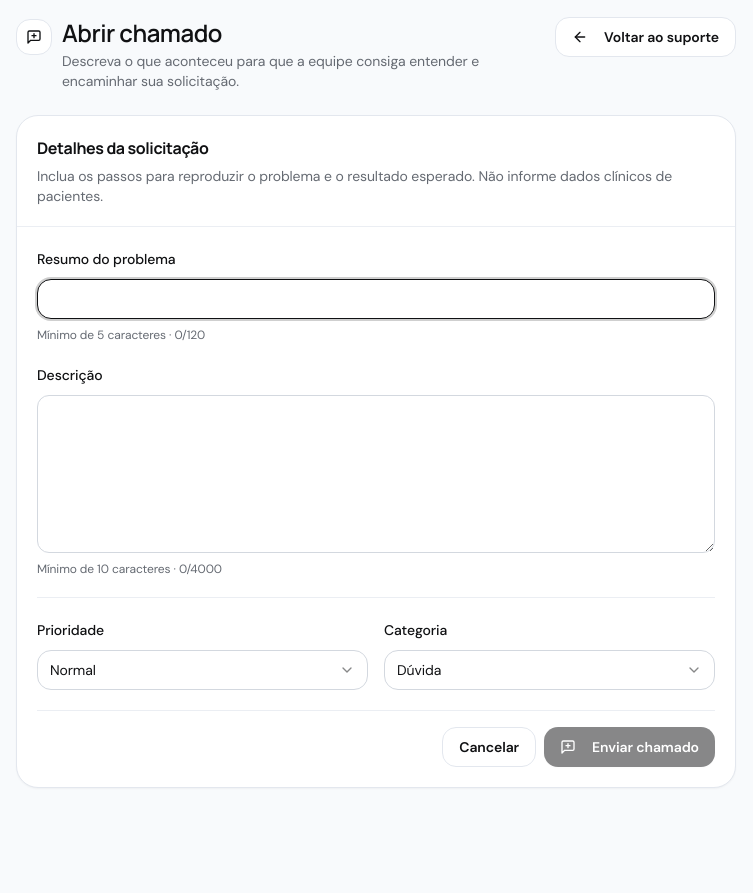
NovoChamadoSuportePage › mantém o rascunho quando o backend recusa a abertura
The width and height of the screenshot is (753, 893).
Type "Erro ao salvar exame" into the field labelled "Resumo do problema" at (376, 299), box [37,279,715,319]
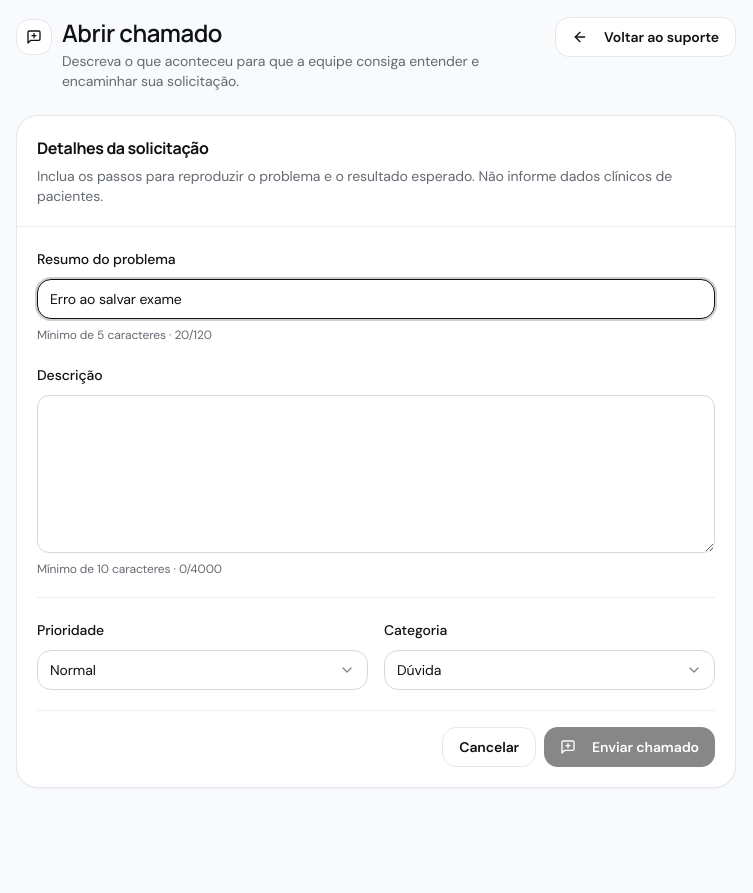
Type "A página informa que não foi possível concluir o salvamento do exame." into the text box labelled "Descrição" at (376, 474), box [37,395,715,553]
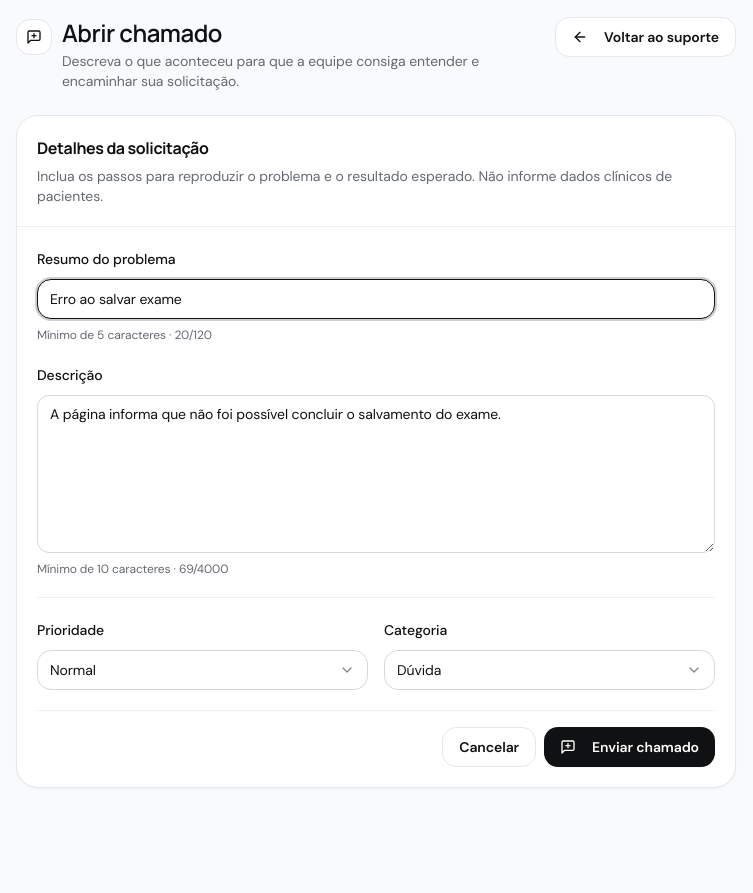
Click the button "Enviar chamado" at (630, 747), box [544,727,715,767]
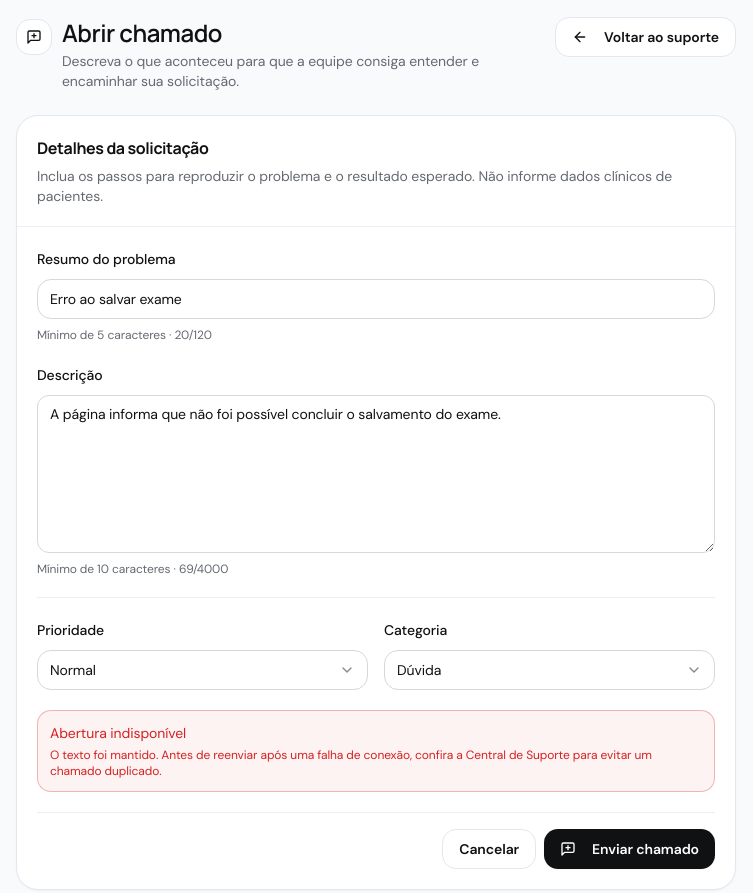
Expected: the heading "Abrir chamado" is shown, [62,16,222,49]
Expected: the message shows "Abertura indisponível", [50,724,186,742]
